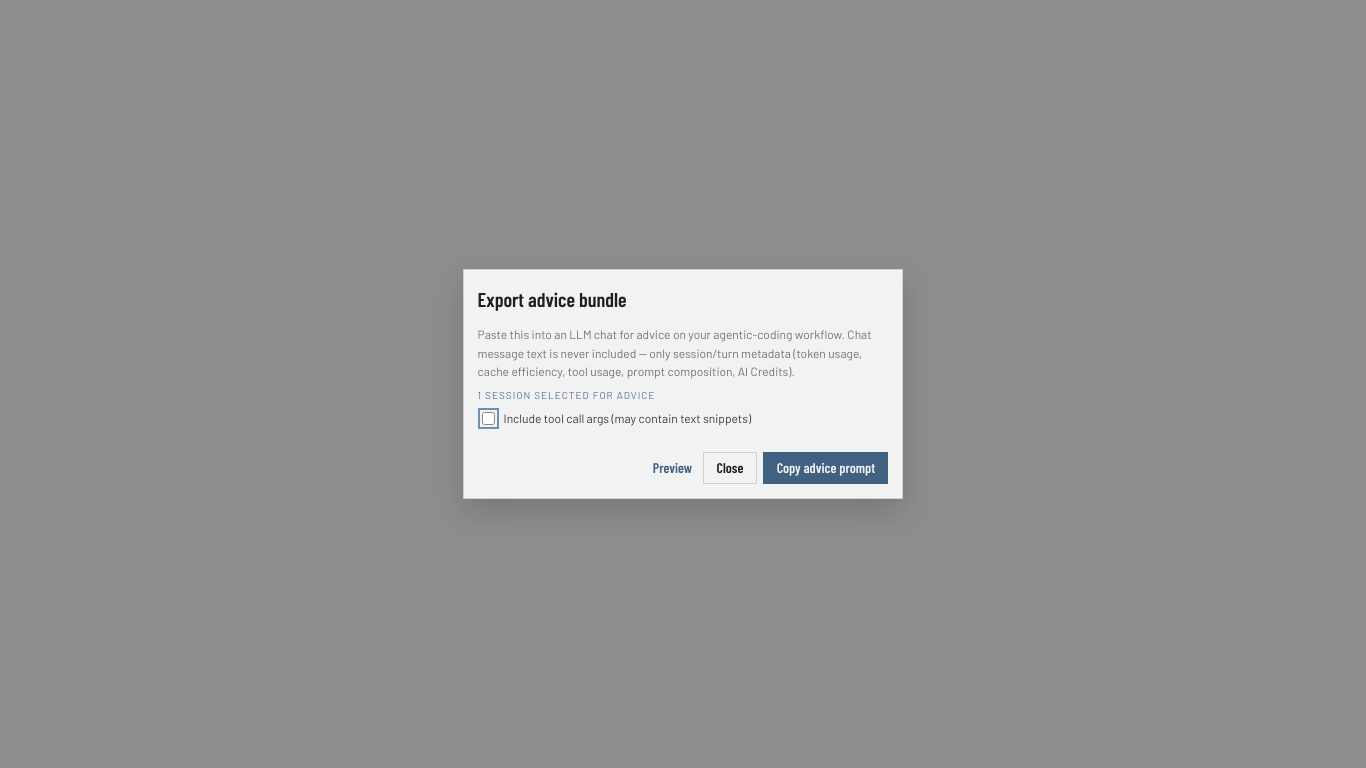
Test: AdviceExportDialog › host capabilities and product profile (vscode-extension.md G8, G10) › names Agent Cost Analyzer in the bundle it previews and copies
Click the button "Preview": x=672, y=468 x1=648 y1=452 x2=696 y2=484
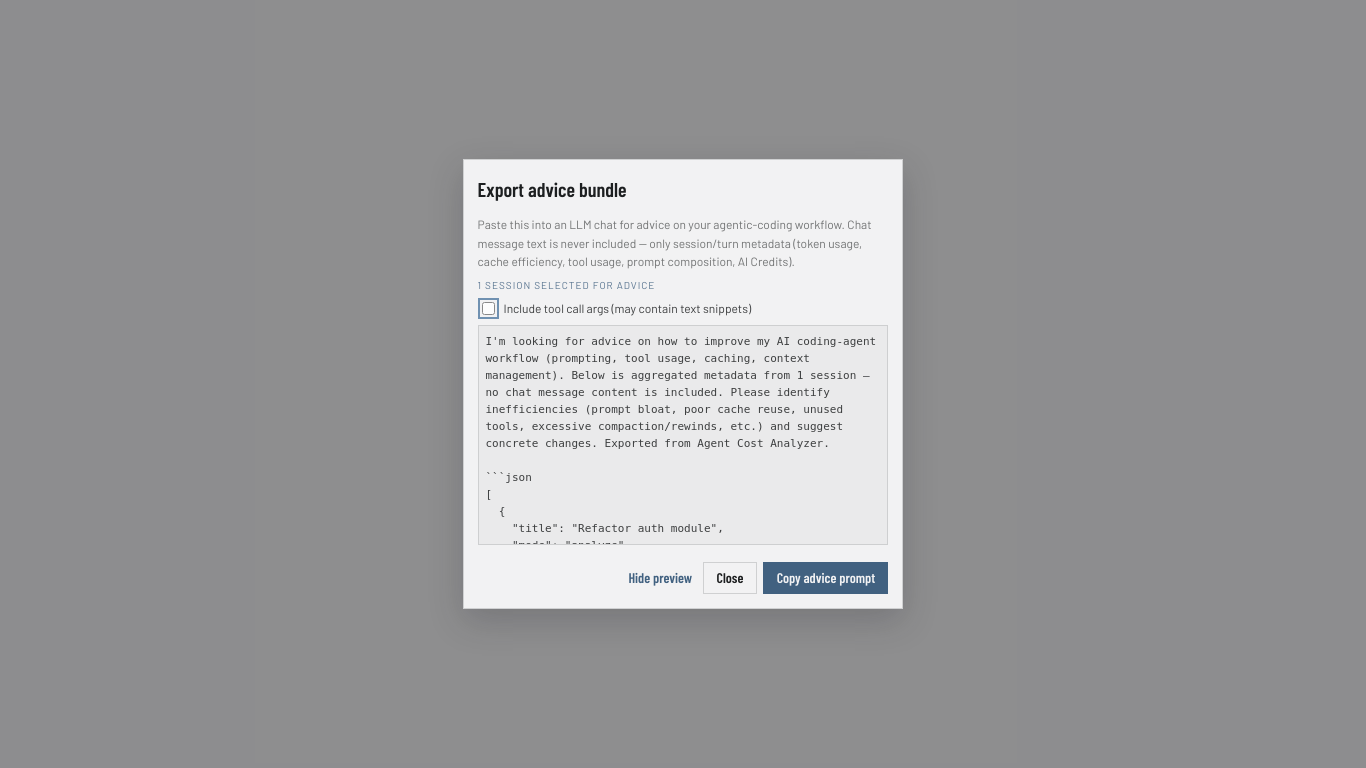
Click the button "Copy advice prompt": x=826, y=578 x1=763 y1=562 x2=888 y2=594
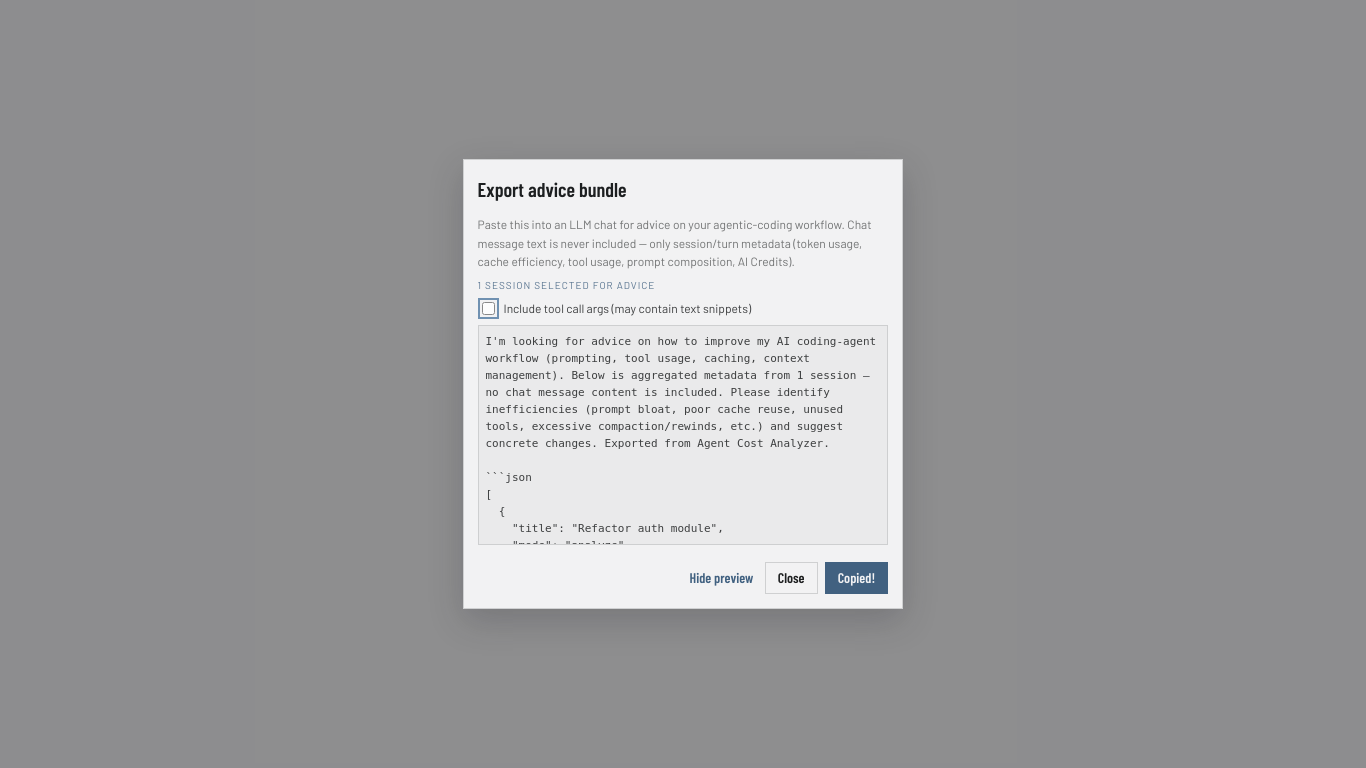
Now the button "Copied!" is shown, box x1=824 y1=562 x2=888 y2=594
